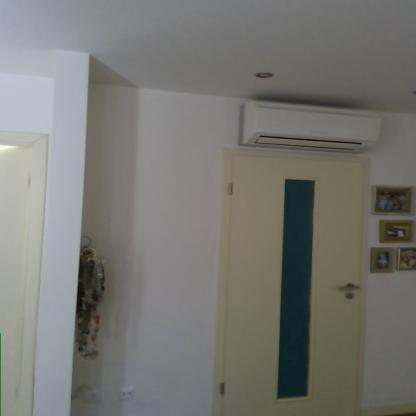door: (222, 142, 367, 416)
hinged: (228, 182, 234, 196), (220, 382, 227, 394)
lever: (334, 285, 362, 292)
